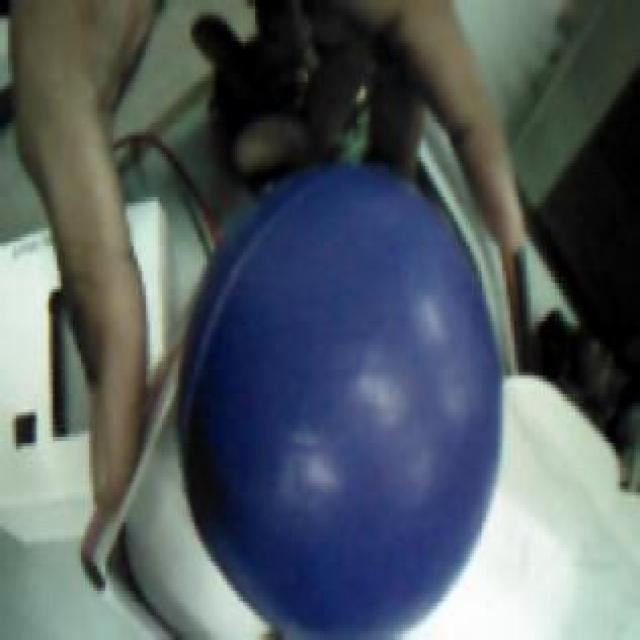BallPurple: (180, 157, 502, 640)
